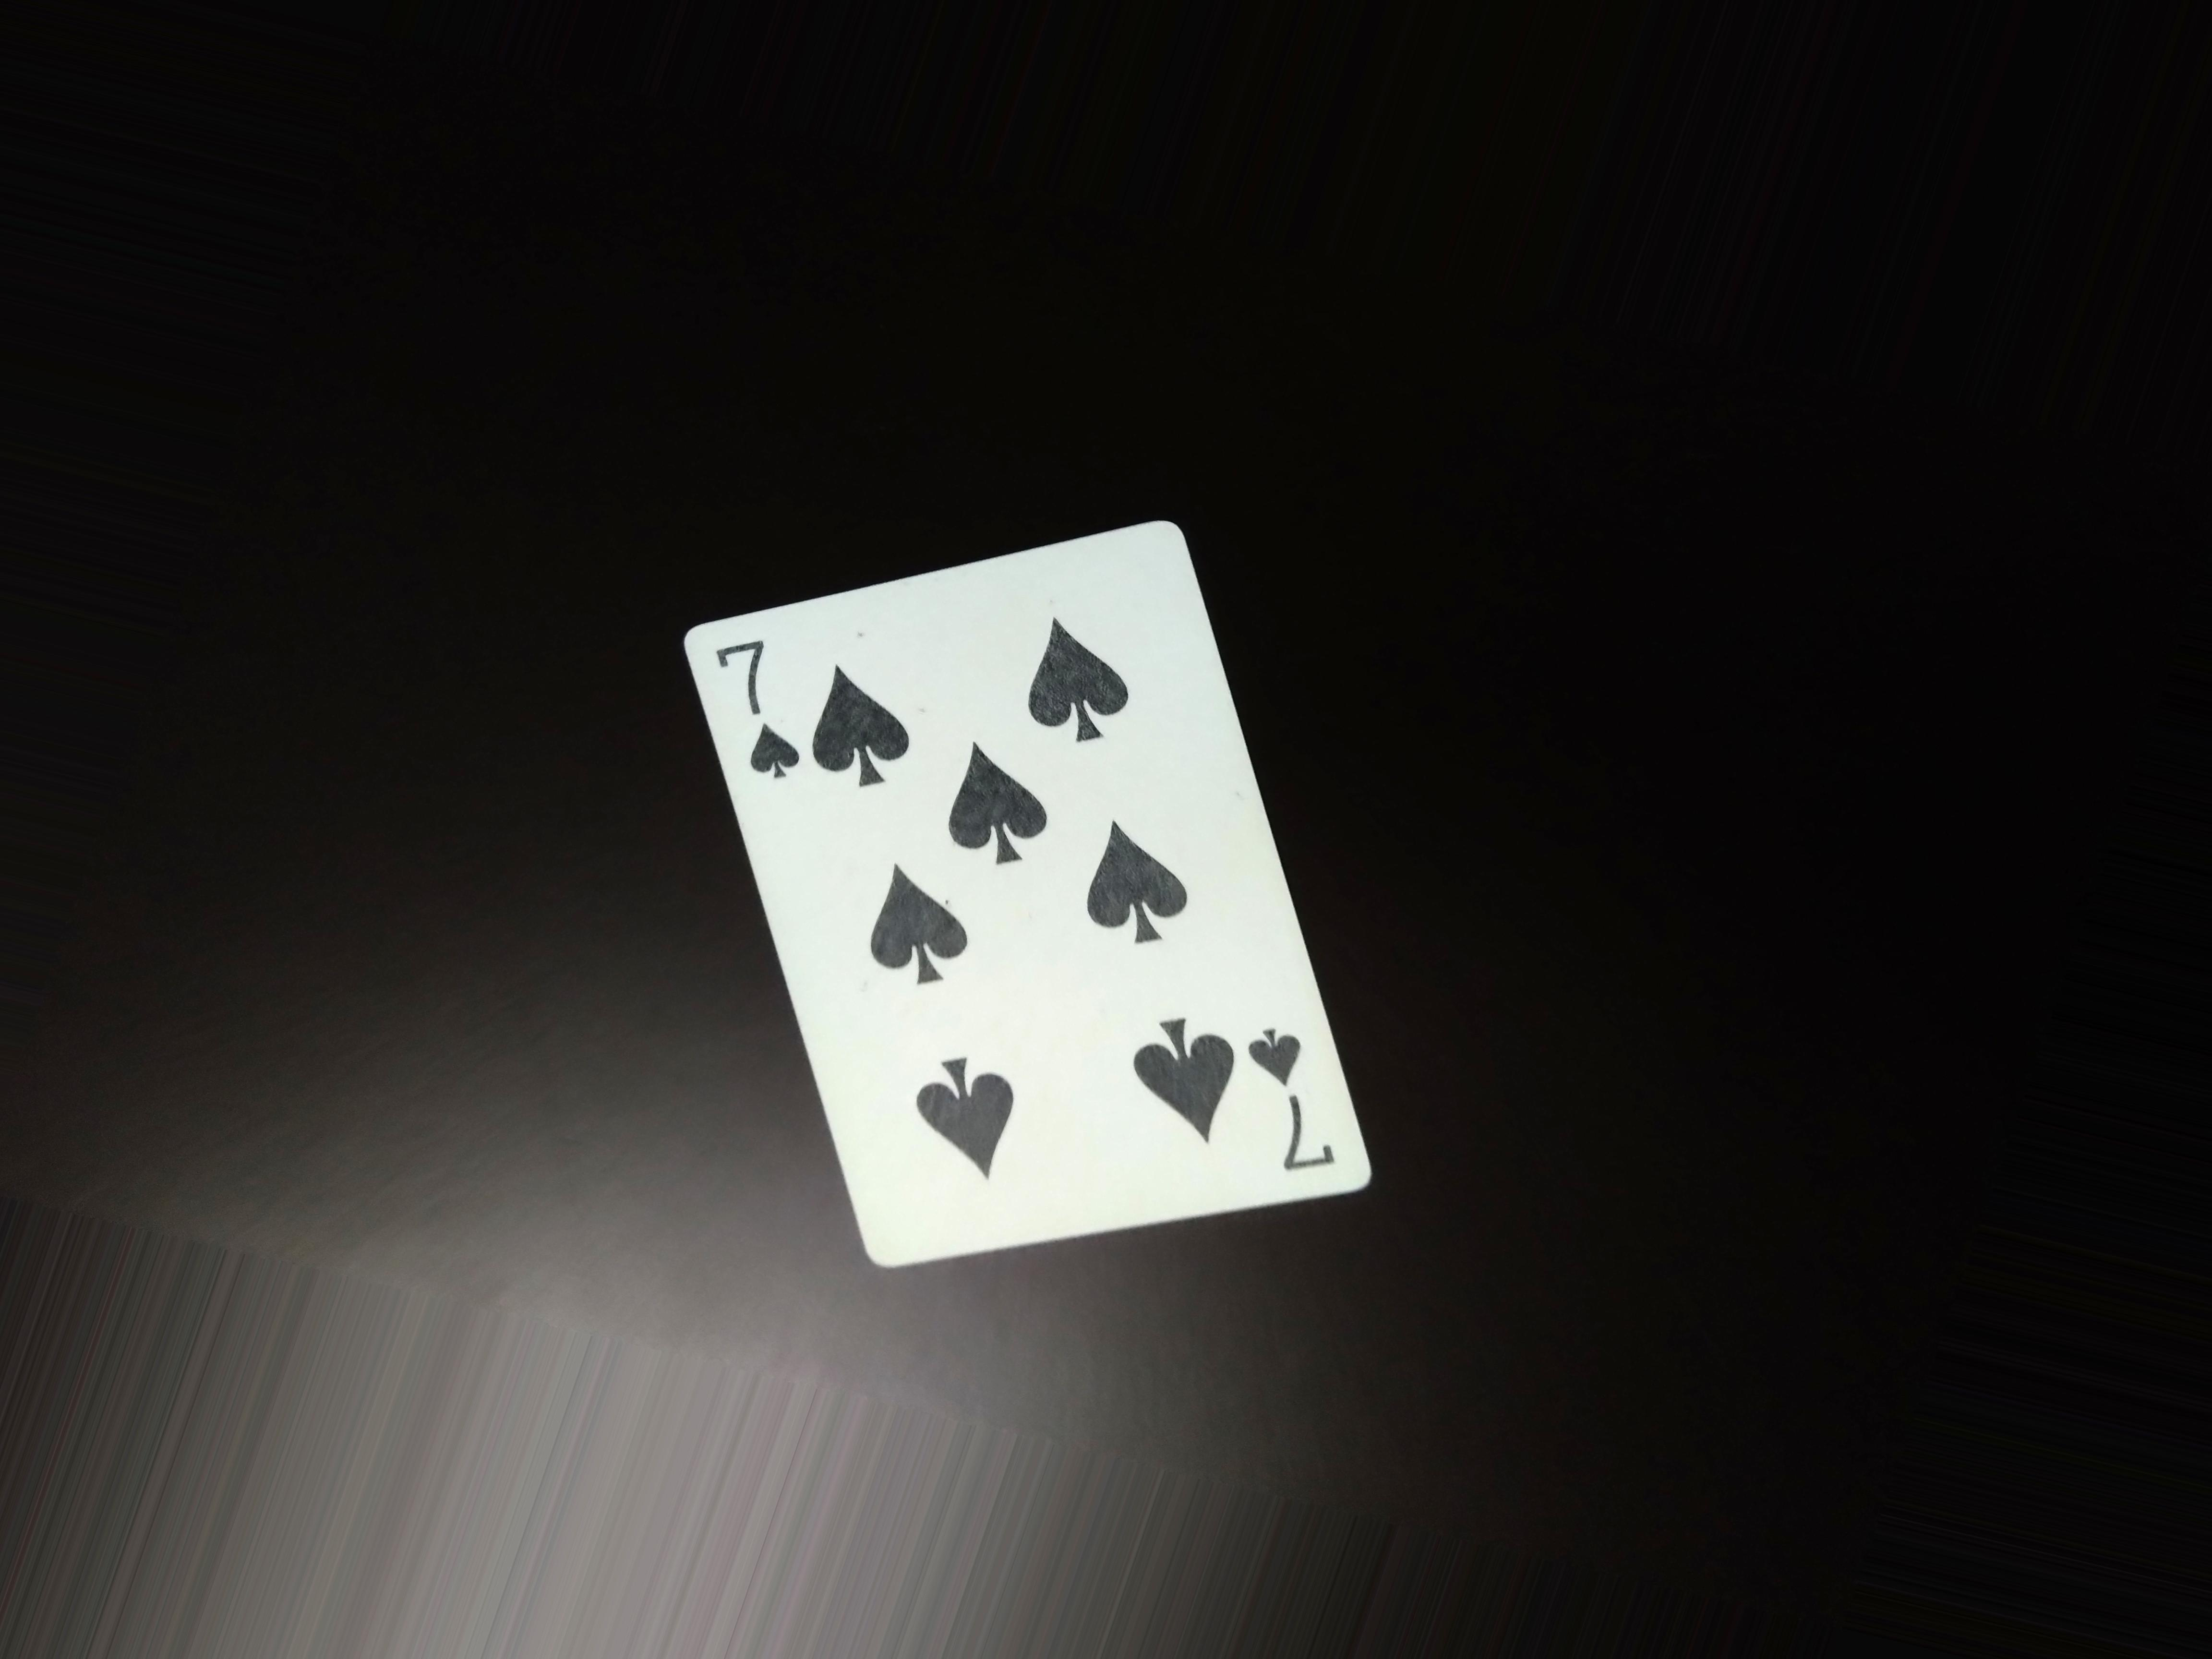7S: (704, 626, 806, 816)
